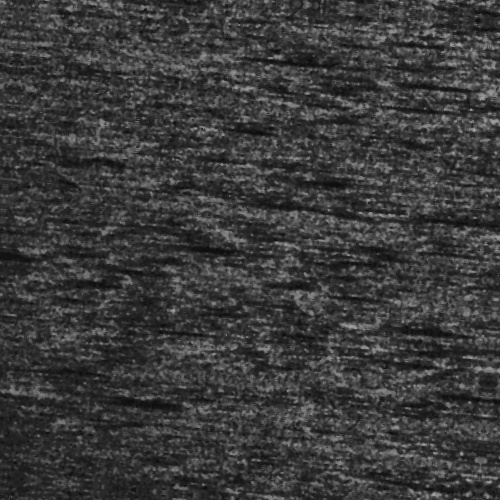object: (25, 403, 118, 412), (181, 52, 244, 61), (349, 309, 412, 316), (354, 197, 427, 202)
shadow: (72, 403, 197, 412), (213, 52, 310, 61), (381, 309, 460, 316), (391, 197, 497, 202)
